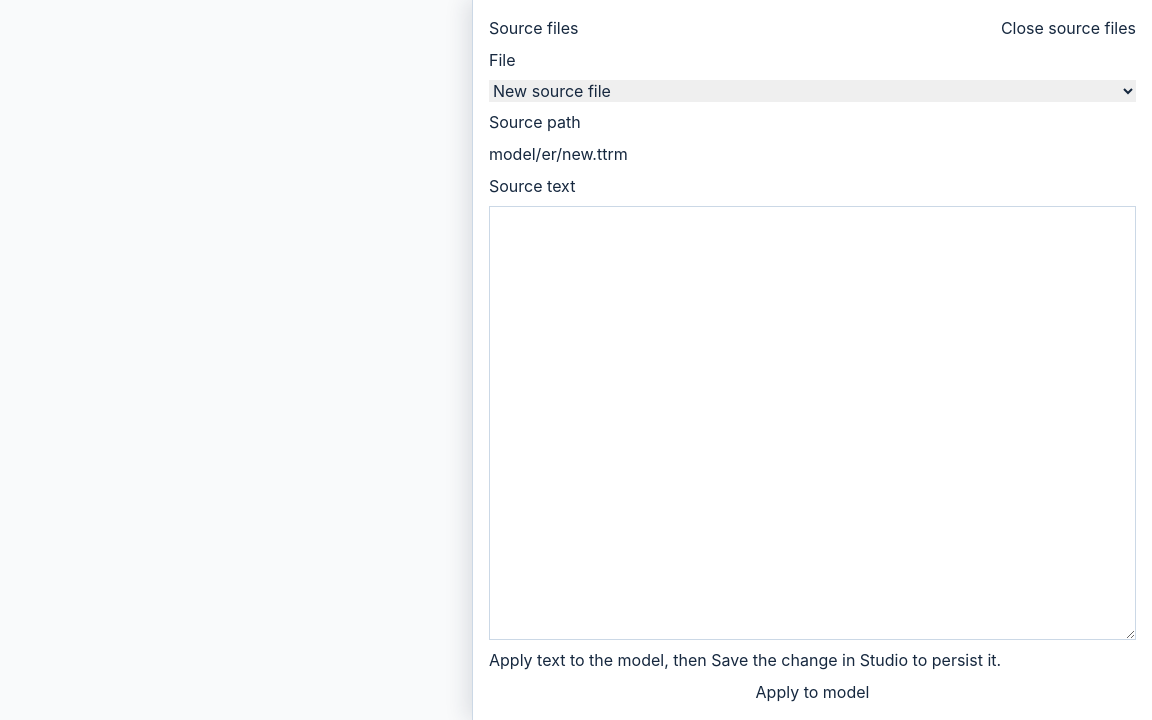
Test: N10 keeps local project source errors visible regardless of the worker root
In the text box labelled "Source text": (812, 423) x1=489 y1=206 x2=1136 y2=640, type "broken source"
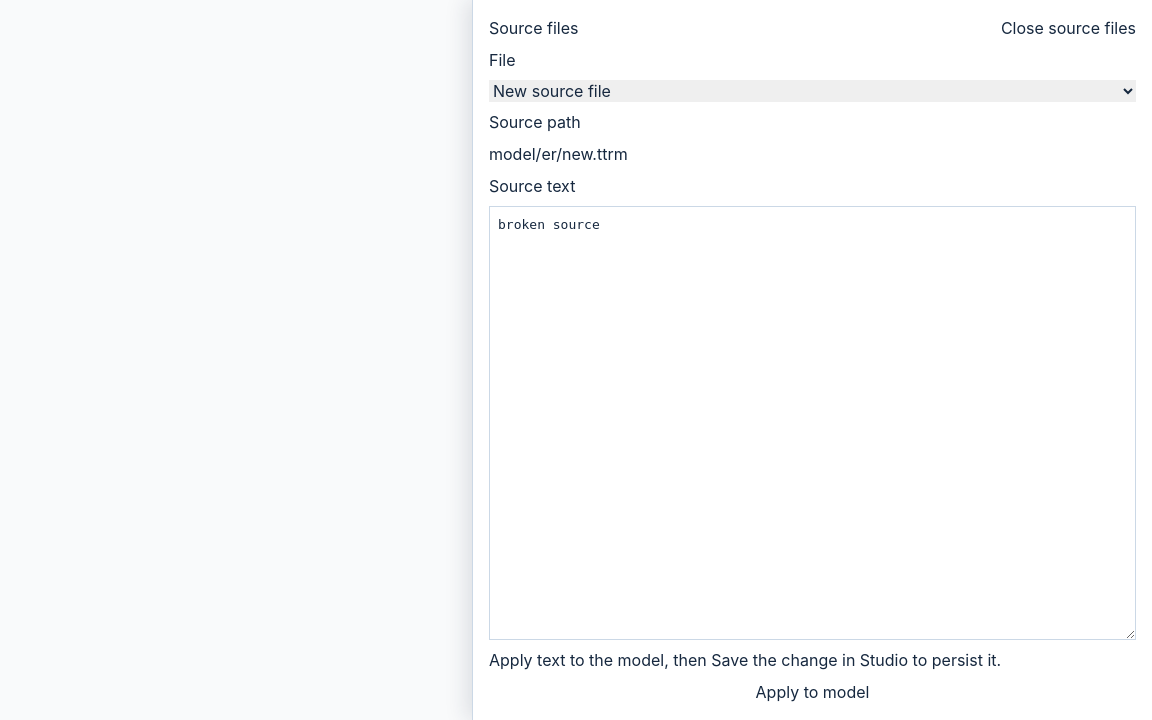
Click the button "Apply to model": (812, 692) x1=489 y1=680 x2=1136 y2=704
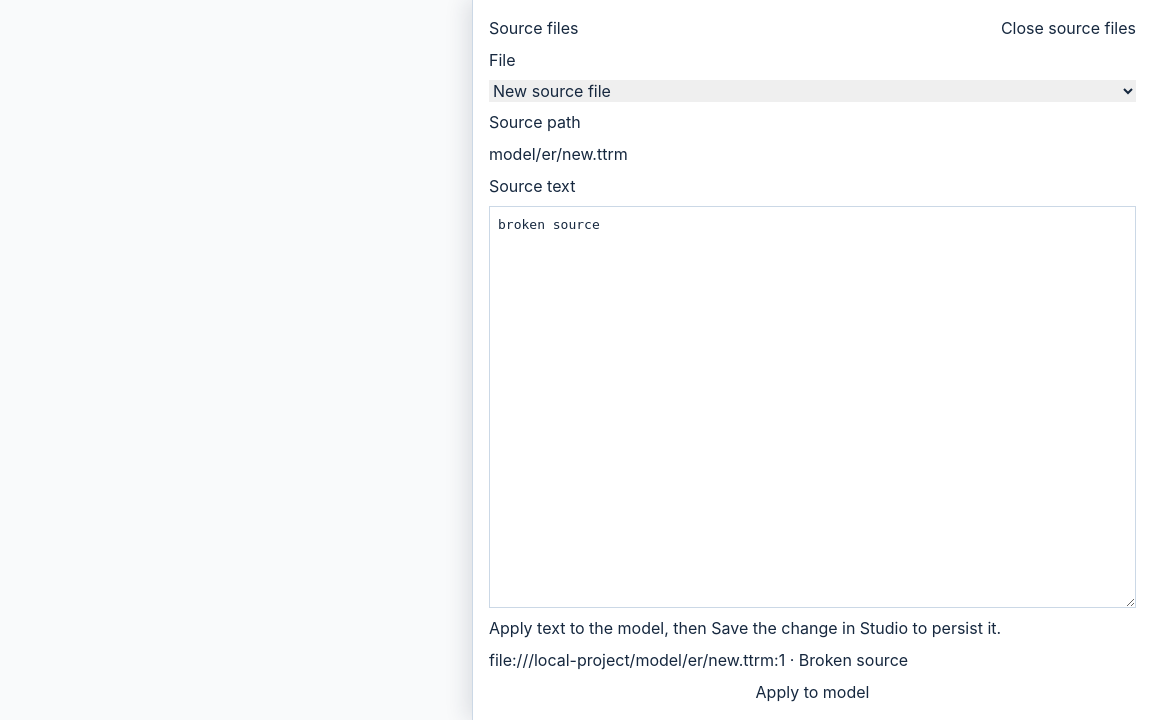
Check: the text "file:///local-project/model/er/new.ttrm:1 · Broken source" is shown, box x1=489 y1=650 x2=908 y2=670
